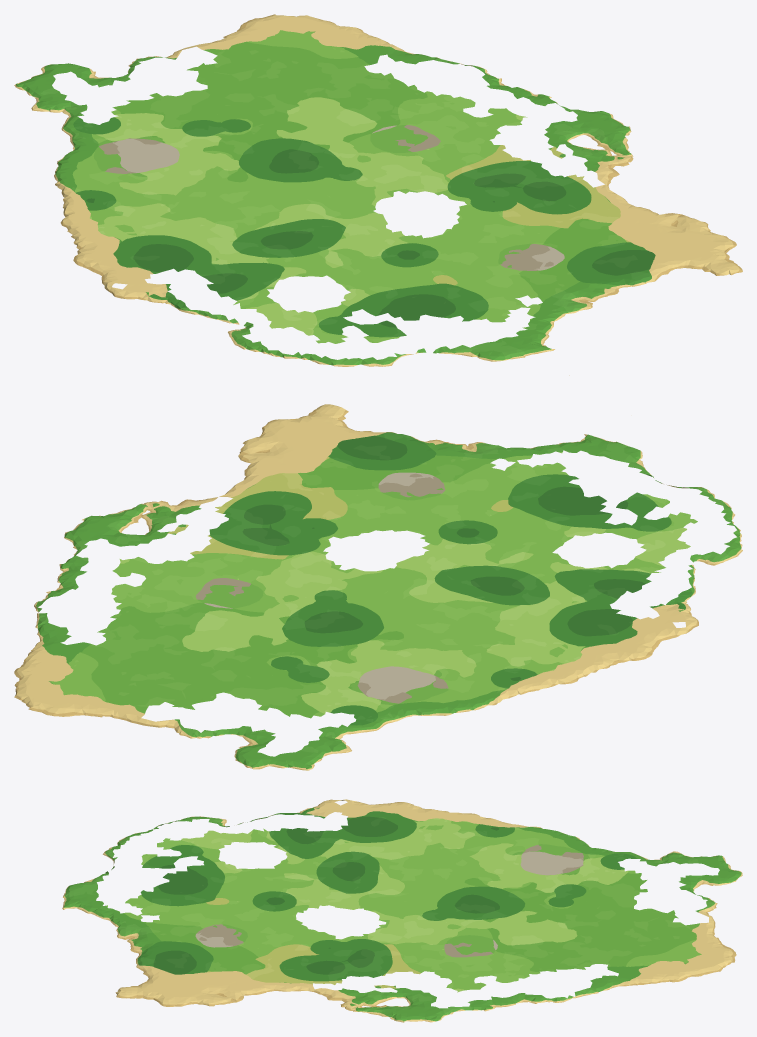
Rendered from Isl-flat5-Ground.fbx.
3 renders of one model, top to bottom at view 1: azimuth 30°, elevation 25°; view 2: azimuth 150°, elevation 25°; view 3: azimuth 270°, elevation 25°, orthographic. The views are drawn at different scales.
Parts seen in each view (by area): view 1: Isl-flat5-Ground-c22, Isl-flat5-Ground-c21, Isl-flat5-Ground-c12, Isl-flat5-Ground-c11, Isl-flat5-Ground-c23, Isl-flat5-Ground-c13, Isl-flat5-Ground-c10; view 2: Isl-flat5-Ground-c22, Isl-flat5-Ground-c12, Isl-flat5-Ground-c21, Isl-flat5-Ground-c11, Isl-flat5-Ground-c23, Isl-flat5-Ground-c13; view 3: Isl-flat5-Ground-c22, Isl-flat5-Ground-c21, Isl-flat5-Ground-c12, Isl-flat5-Ground-c11, Isl-flat5-Ground-c23, Isl-flat5-Ground-c13.
Boxes of the visible parts, <box> form: Isl-flat5-Ground-c22: <box>185,32,631,210</box>; Isl-flat5-Ground-c21: <box>348,144,742,341</box>; Isl-flat5-Ground-c12: <box>49,93,347,273</box>; Isl-flat5-Ground-c11: <box>99,210,524,366</box>; Isl-flat5-Ground-c23: <box>137,14,367,71</box>; Isl-flat5-Ground-c13: <box>14,59,144,111</box>; Isl-flat5-Ground-c10: <box>477,340,538,361</box>; Isl-flat5-Ground-c22: <box>22,511,404,704</box>; Isl-flat5-Ground-c12: <box>243,578,659,744</box>; Isl-flat5-Ground-c21: <box>123,404,585,577</box>; Isl-flat5-Ground-c11: <box>406,445,742,642</box>; Isl-flat5-Ground-c23: <box>14,663,196,738</box>; Isl-flat5-Ground-c13: <box>191,726,351,770</box>; Isl-flat5-Ground-c22: <box>373,900,669,1022</box>; Isl-flat5-Ground-c21: <box>82,900,376,1014</box>; Isl-flat5-Ground-c12: <box>373,802,668,901</box>; Isl-flat5-Ground-c11: <box>81,799,375,901</box>; Isl-flat5-Ground-c23: <box>662,901,736,982</box>; Isl-flat5-Ground-c13: <box>663,851,742,902</box>.
Bounding box in the file's own units: 94.86 × 0.4899 × 131.
